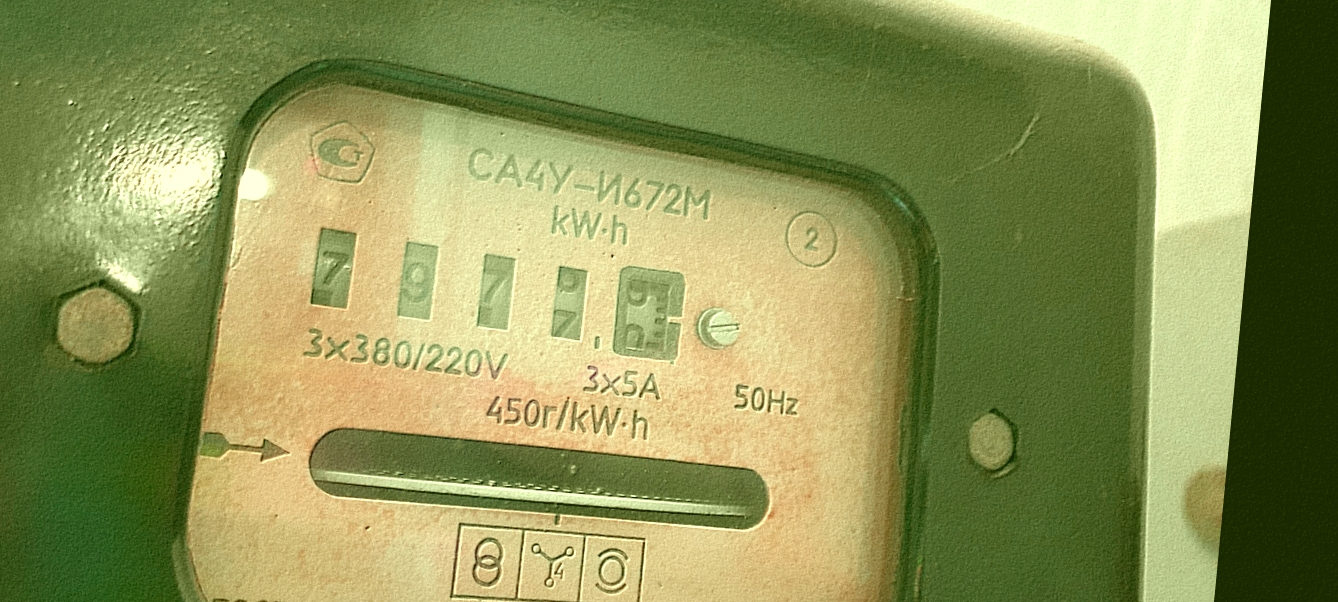0: (620, 320, 646, 351)
7: (314, 245, 352, 293), (548, 300, 581, 344), (479, 265, 511, 308)
9: (399, 258, 434, 308), (623, 276, 656, 311)
screen: (293, 214, 704, 378)
